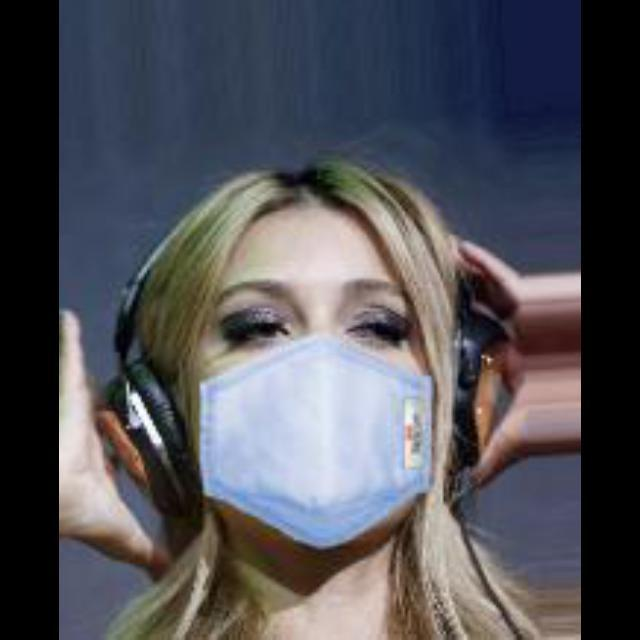suspicion: (58, 135, 514, 587)
